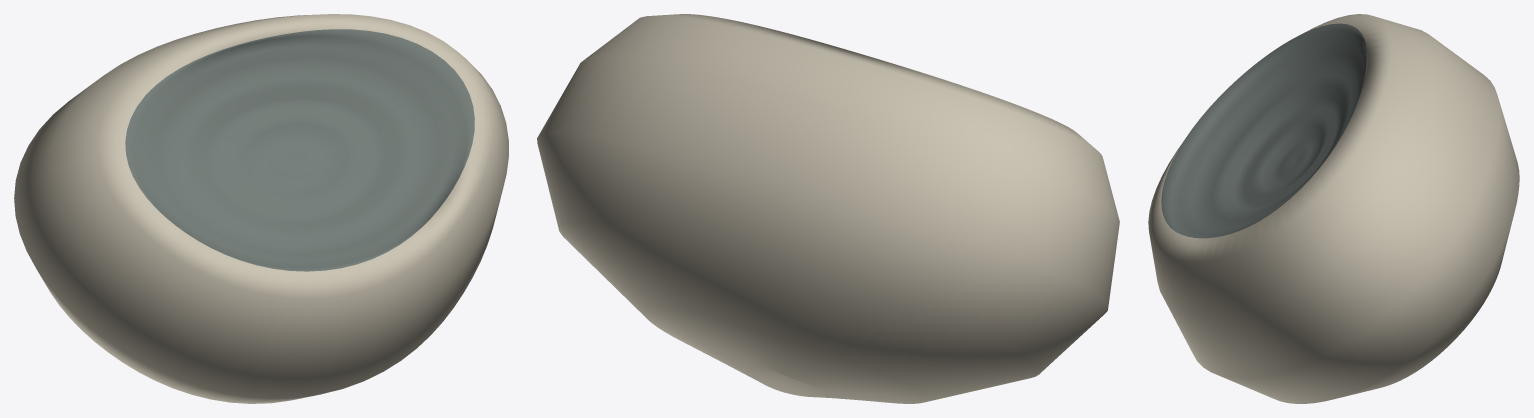
Rendered from flint-nodule.glb.
The picture shows the model from 3 angles, left to right: view 1: azimuth 30°, elevation 25°; view 2: azimuth 150°, elevation 25°; view 3: azimuth 270°, elevation 25°; orthographic projection. The views are drawn at different scales.
Parts seen in each view (by area): view 1: rounded-chalk-cortex-nodule-with-single-conchoidal-fracture; view 2: rounded-chalk-cortex-nodule-with-single-conchoidal-fracture; view 3: rounded-chalk-cortex-nodule-with-single-conchoidal-fracture.
Part boxes in pixels (<box>): rounded-chalk-cortex-nodule-with-single-conchoidal-fracture: <box>14,14,508,403</box>; rounded-chalk-cortex-nodule-with-single-conchoidal-fracture: <box>537,14,1119,403</box>; rounded-chalk-cortex-nodule-with-single-conchoidal-fracture: <box>1148,14,1519,403</box>.
Size of the model in its own units: 0.22 by 0.1452 by 0.1543.
